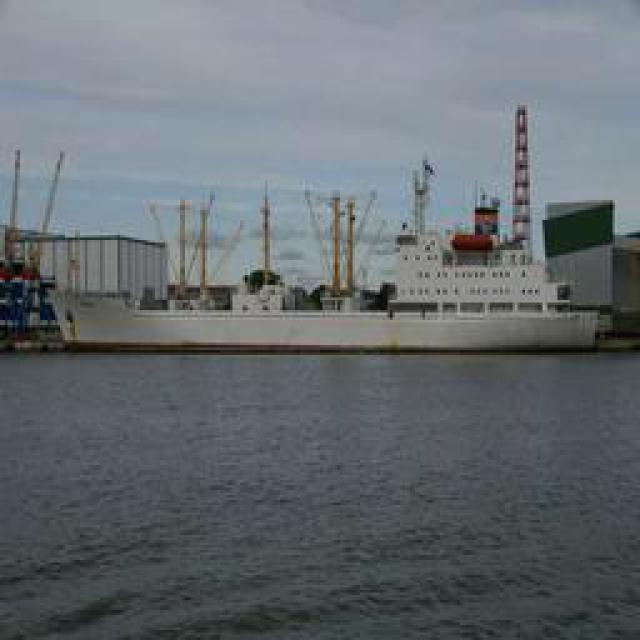Ship: (32, 150, 632, 355)
